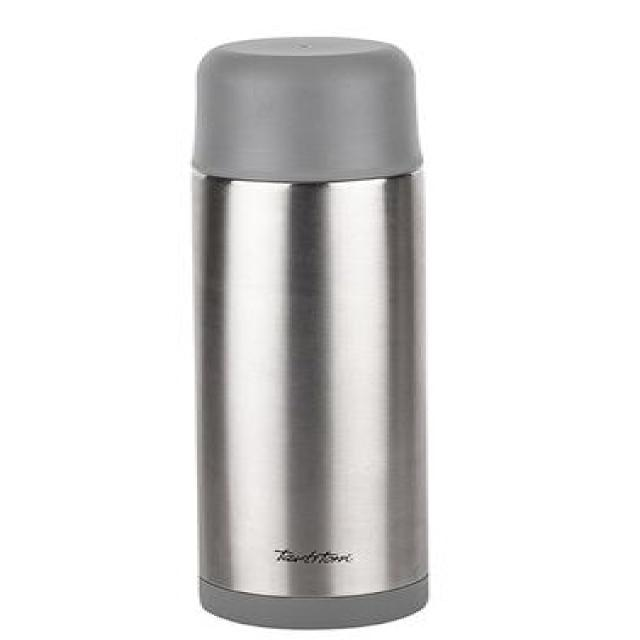Termos: (192, 35, 430, 630)
